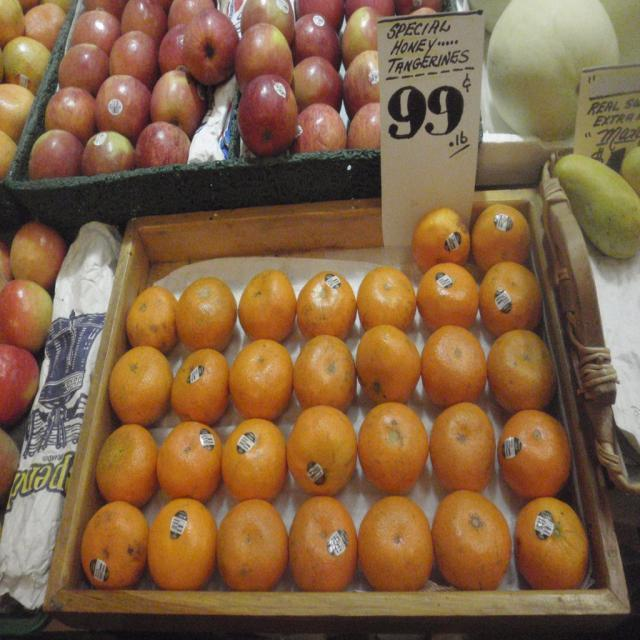Orange: (80, 205, 590, 590)
